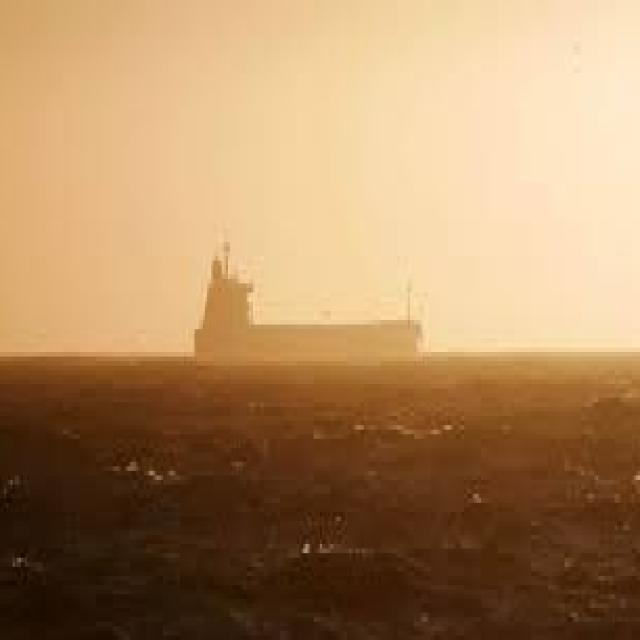cargoship: (195, 238, 432, 365)
